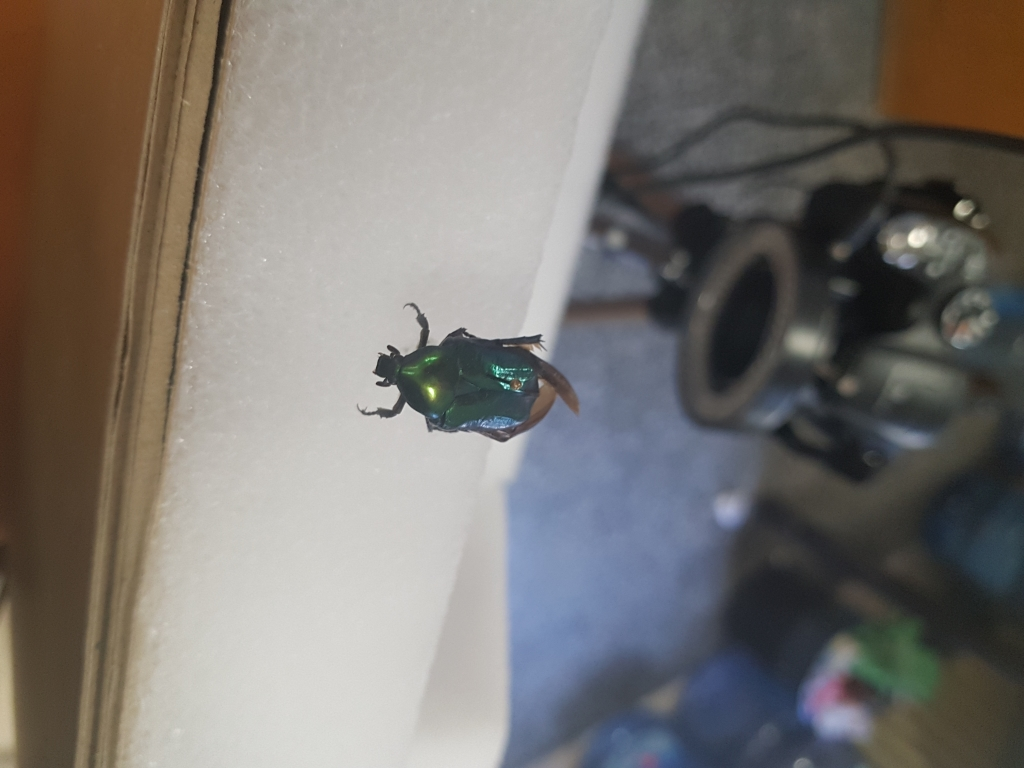Protaetia_angustata_angustata: (353, 294, 591, 448)
